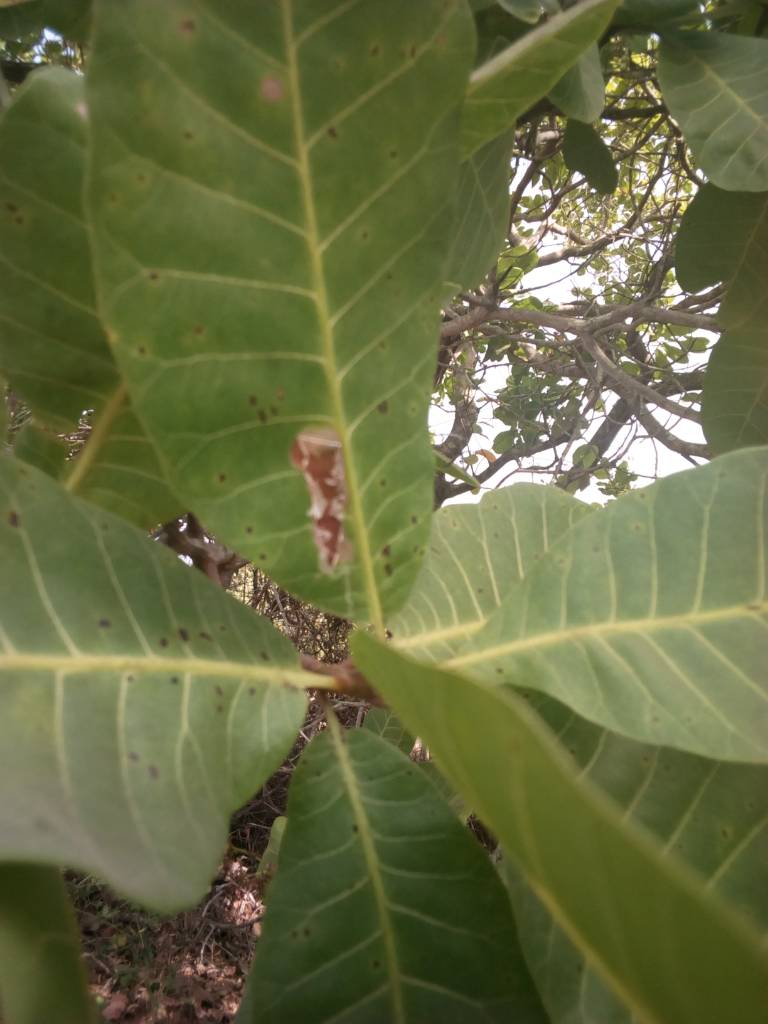Anthracnose: (86, 1, 474, 625), (1, 449, 283, 908), (280, 738, 490, 1024)
